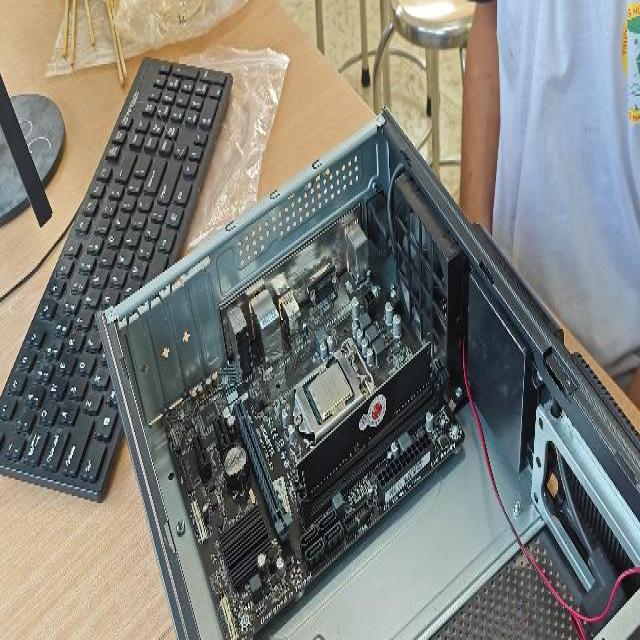CPU: (304, 358, 354, 421)
Mainboard: (162, 271, 466, 632)
RAM: (297, 340, 435, 510)
